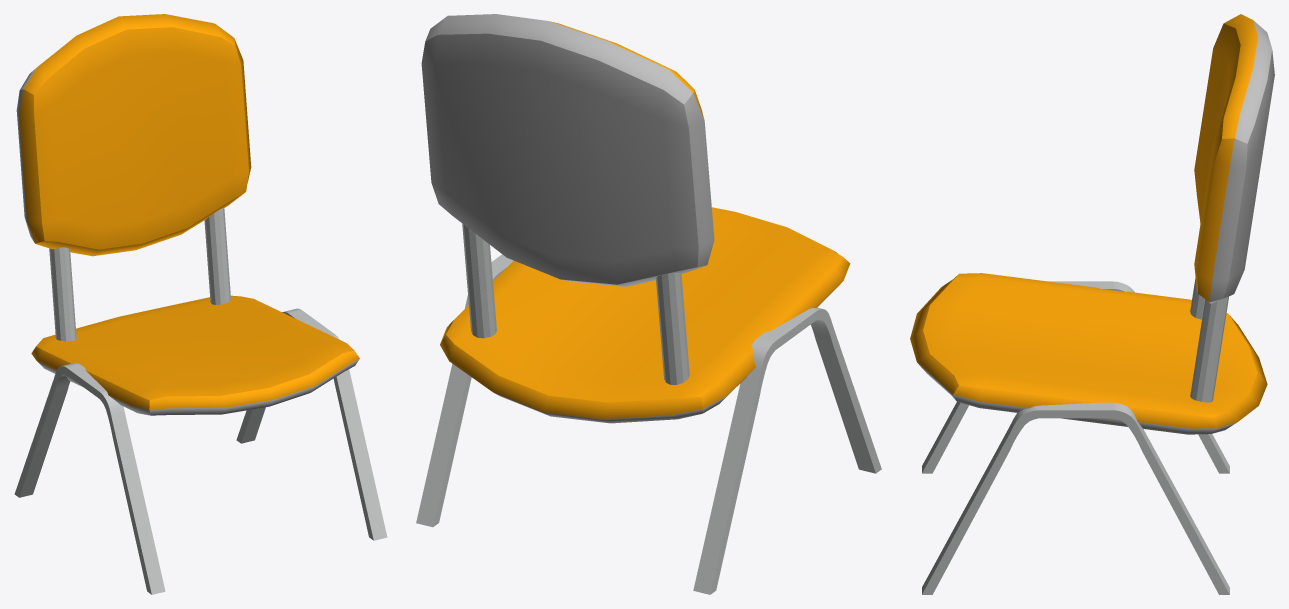
Rendered from office_chair.fbx.
The picture shows the model from 3 angles, left to right: view 1: azimuth 30°, elevation 25°; view 2: azimuth 150°, elevation 25°; view 3: azimuth 270°, elevation 25°; orthographic projection. The views are drawn at different scales.
Parts seen in each view (by area): view 1: back_cushion, Office_chair, rightleg, leftleg, pole, pole1; view 2: back_cushion, Office_chair, rightleg, leftleg, pole, pole1; view 3: Office_chair, back_cushion, leftleg, pole1, rightleg.
Boxes of the visible parts, x1,y1,x2,y2 form: back_cushion: (16,14,251,256); Office_chair: (31,295,359,415); rightleg: (14,363,165,594); leftleg: (236,308,387,540); pole: (49,247,76,341); pole1: (204,208,230,304); back_cushion: (421,14,714,286); Office_chair: (440,207,850,423); rightleg: (693,307,881,594); leftleg: (416,254,513,527); pole: (656,273,689,384); pole1: (462,224,496,338); Office_chair: (910,273,1267,434); back_cushion: (1194,14,1274,303); leftleg: (922,402,1229,594); pole1: (1190,296,1228,402); rightleg: (922,281,1229,473).
Size of the model in its own units: 65.37 by 117 by 78.27.
2 materials, 1 textured.
